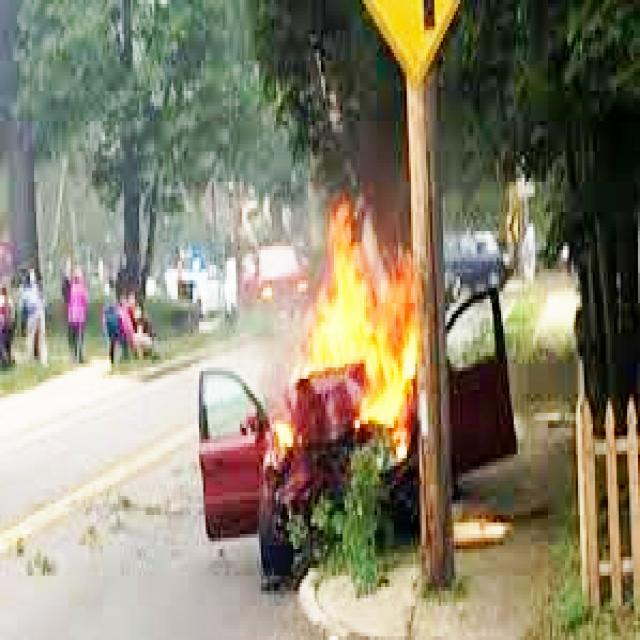api: (260, 205, 429, 482)
